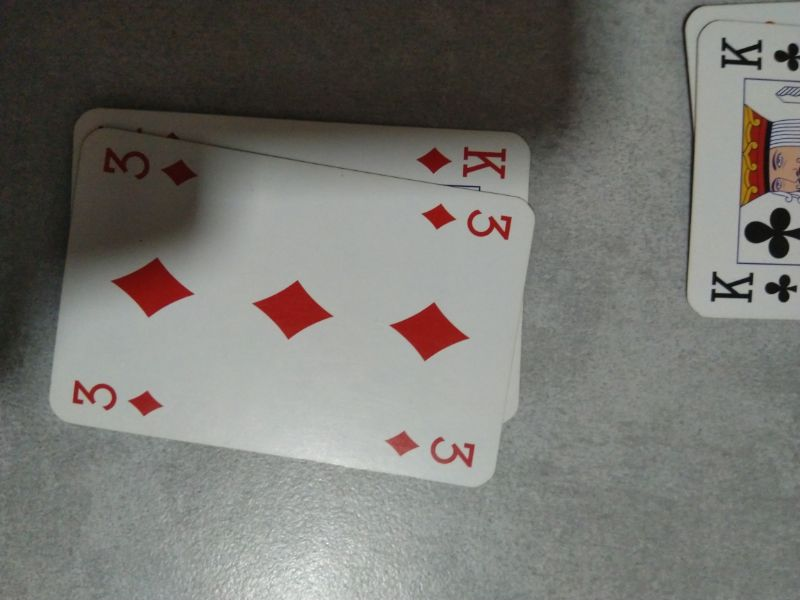3d: (97, 143, 202, 193), (417, 193, 514, 247), (378, 424, 478, 473), (67, 373, 168, 419)
Kc: (706, 266, 800, 311), (715, 32, 800, 75)
Kd: (412, 143, 512, 182)
